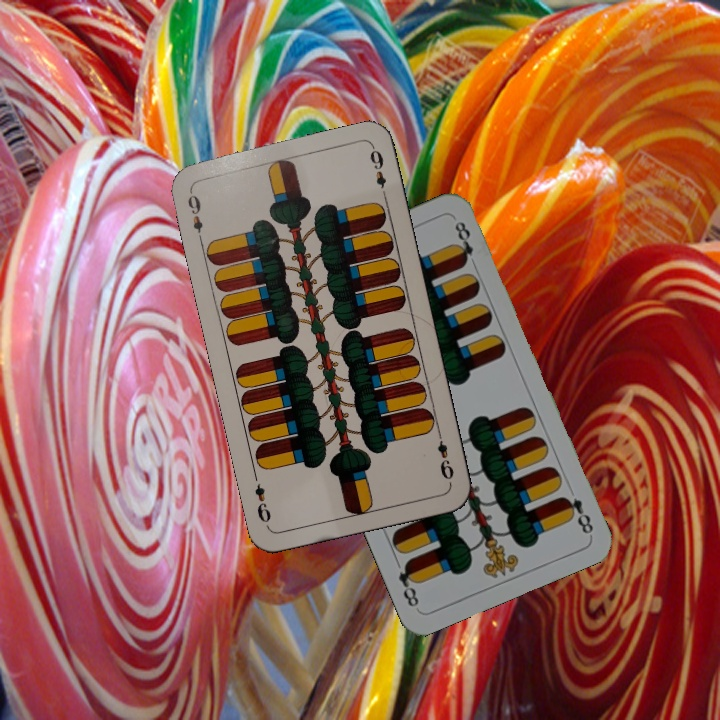E8: (557, 492, 596, 536)
E9: (433, 427, 456, 486), (183, 186, 206, 245)
